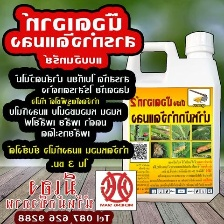insecticide: (119, 27, 223, 204)
